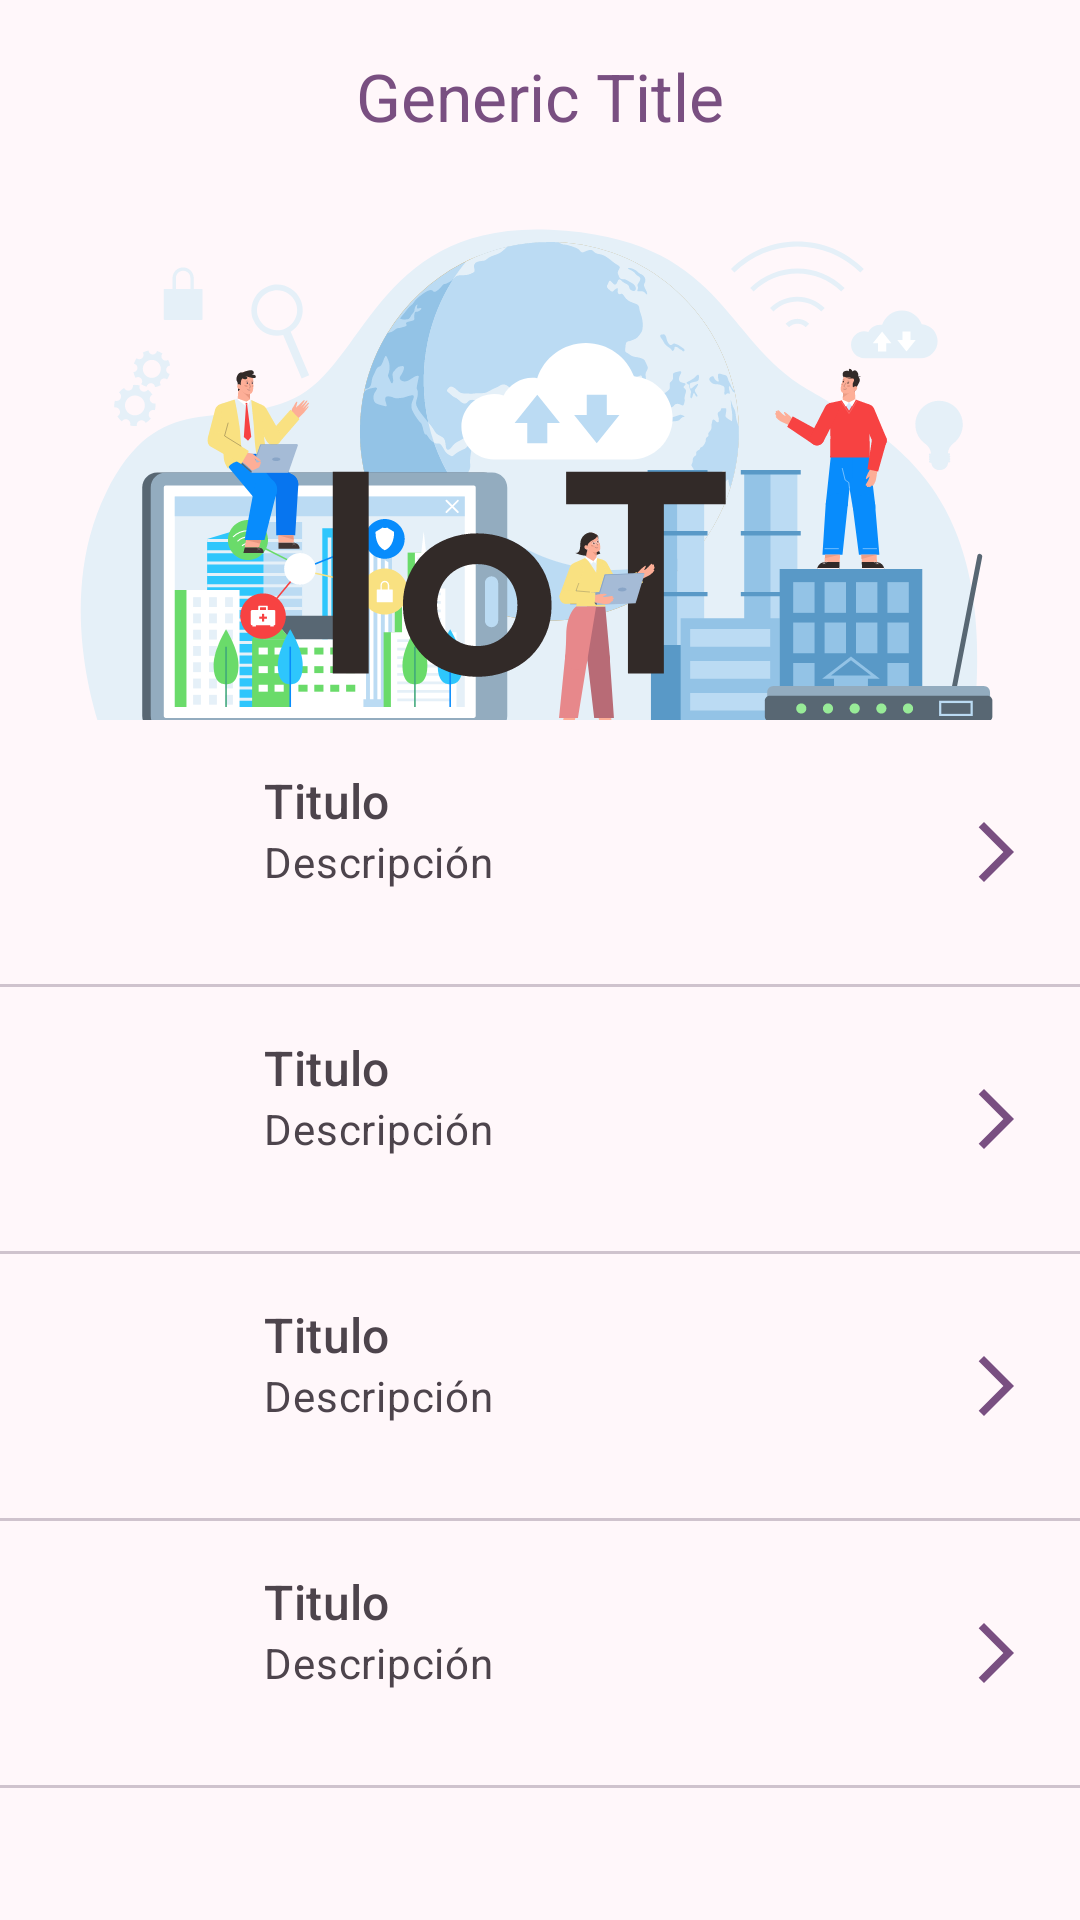

Icons on this 1080 × 1920 Android screen, each with its box as {"left": x1, "top": y1, "right": x2, "bottom": y2}:
arrow next: {"left": 979, "top": 822, "right": 1014, "bottom": 882}, {"left": 979, "top": 1089, "right": 1014, "bottom": 1149}, {"left": 979, "top": 1356, "right": 1014, "bottom": 1416}, {"left": 979, "top": 1623, "right": 1014, "bottom": 1683}
